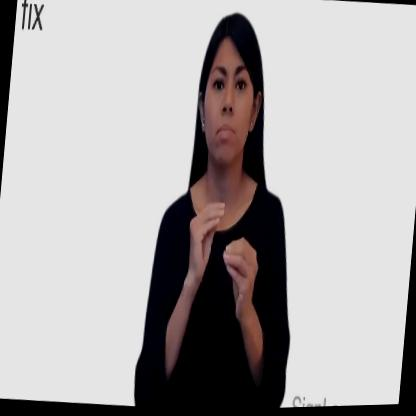Fix: (132, 7, 318, 413)
